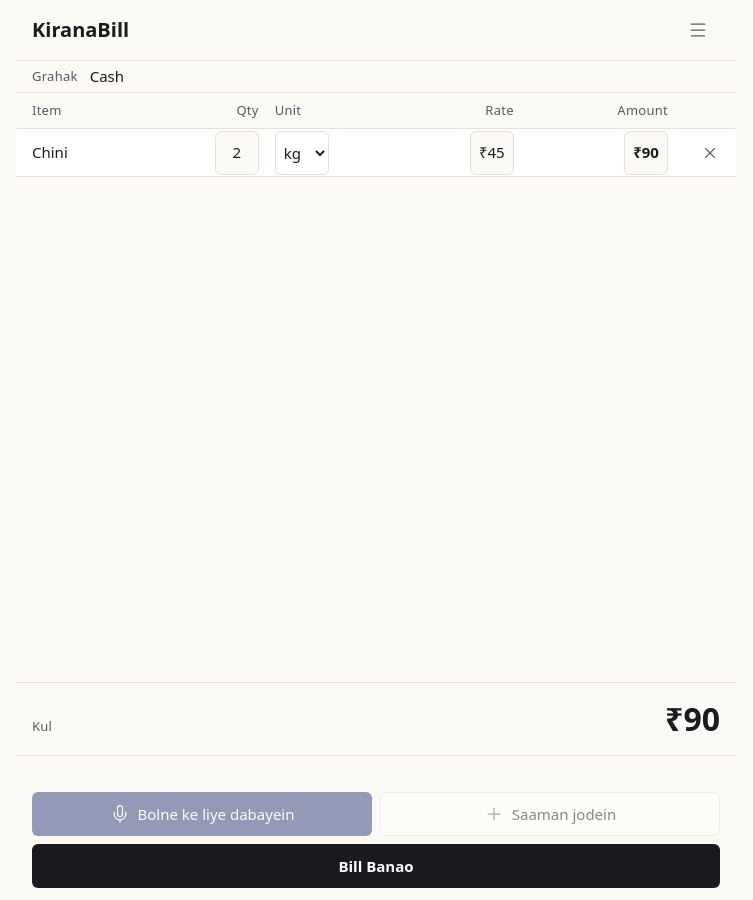
the bill screen › menu, headings, total, customer - in hl; Bill Banao never changes
This screenshot has width=753, height=900.
Step 1. Click the button named "Menu" → (698, 30), box [676, 8, 720, 52]
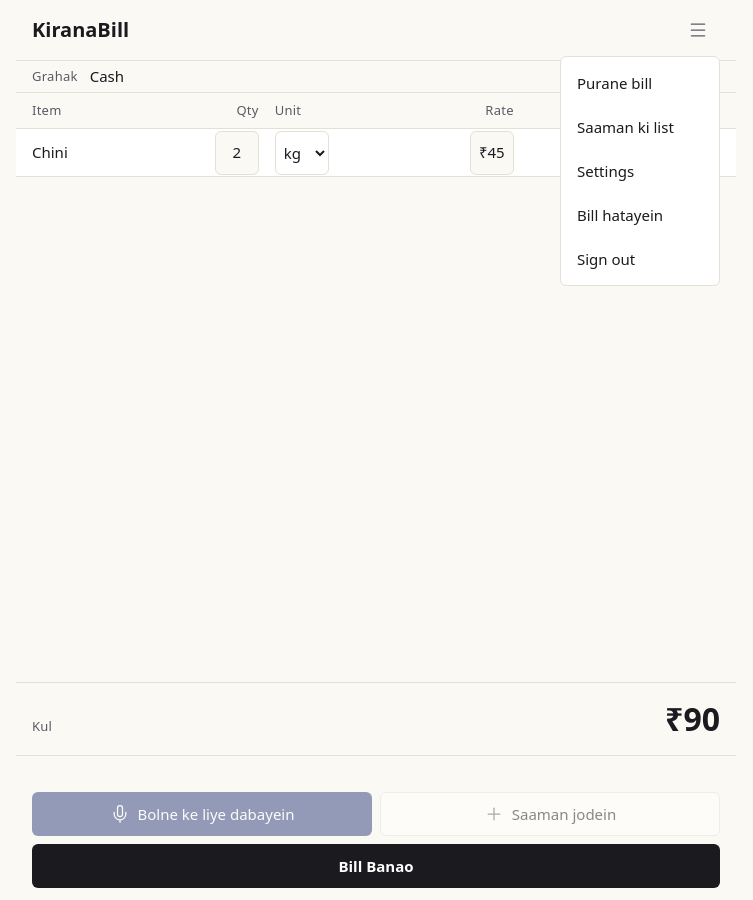
Result: the button "Purane bill" is shown at [561, 61, 719, 105]
Result: the button "Saaman ki list" is shown at [561, 105, 719, 149]
Result: the button "Settings" is shown at [561, 149, 719, 193]
